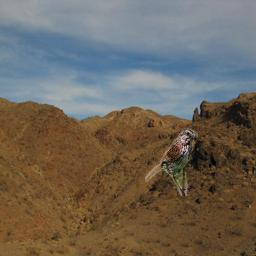Sparrow: (145, 128, 198, 196)
